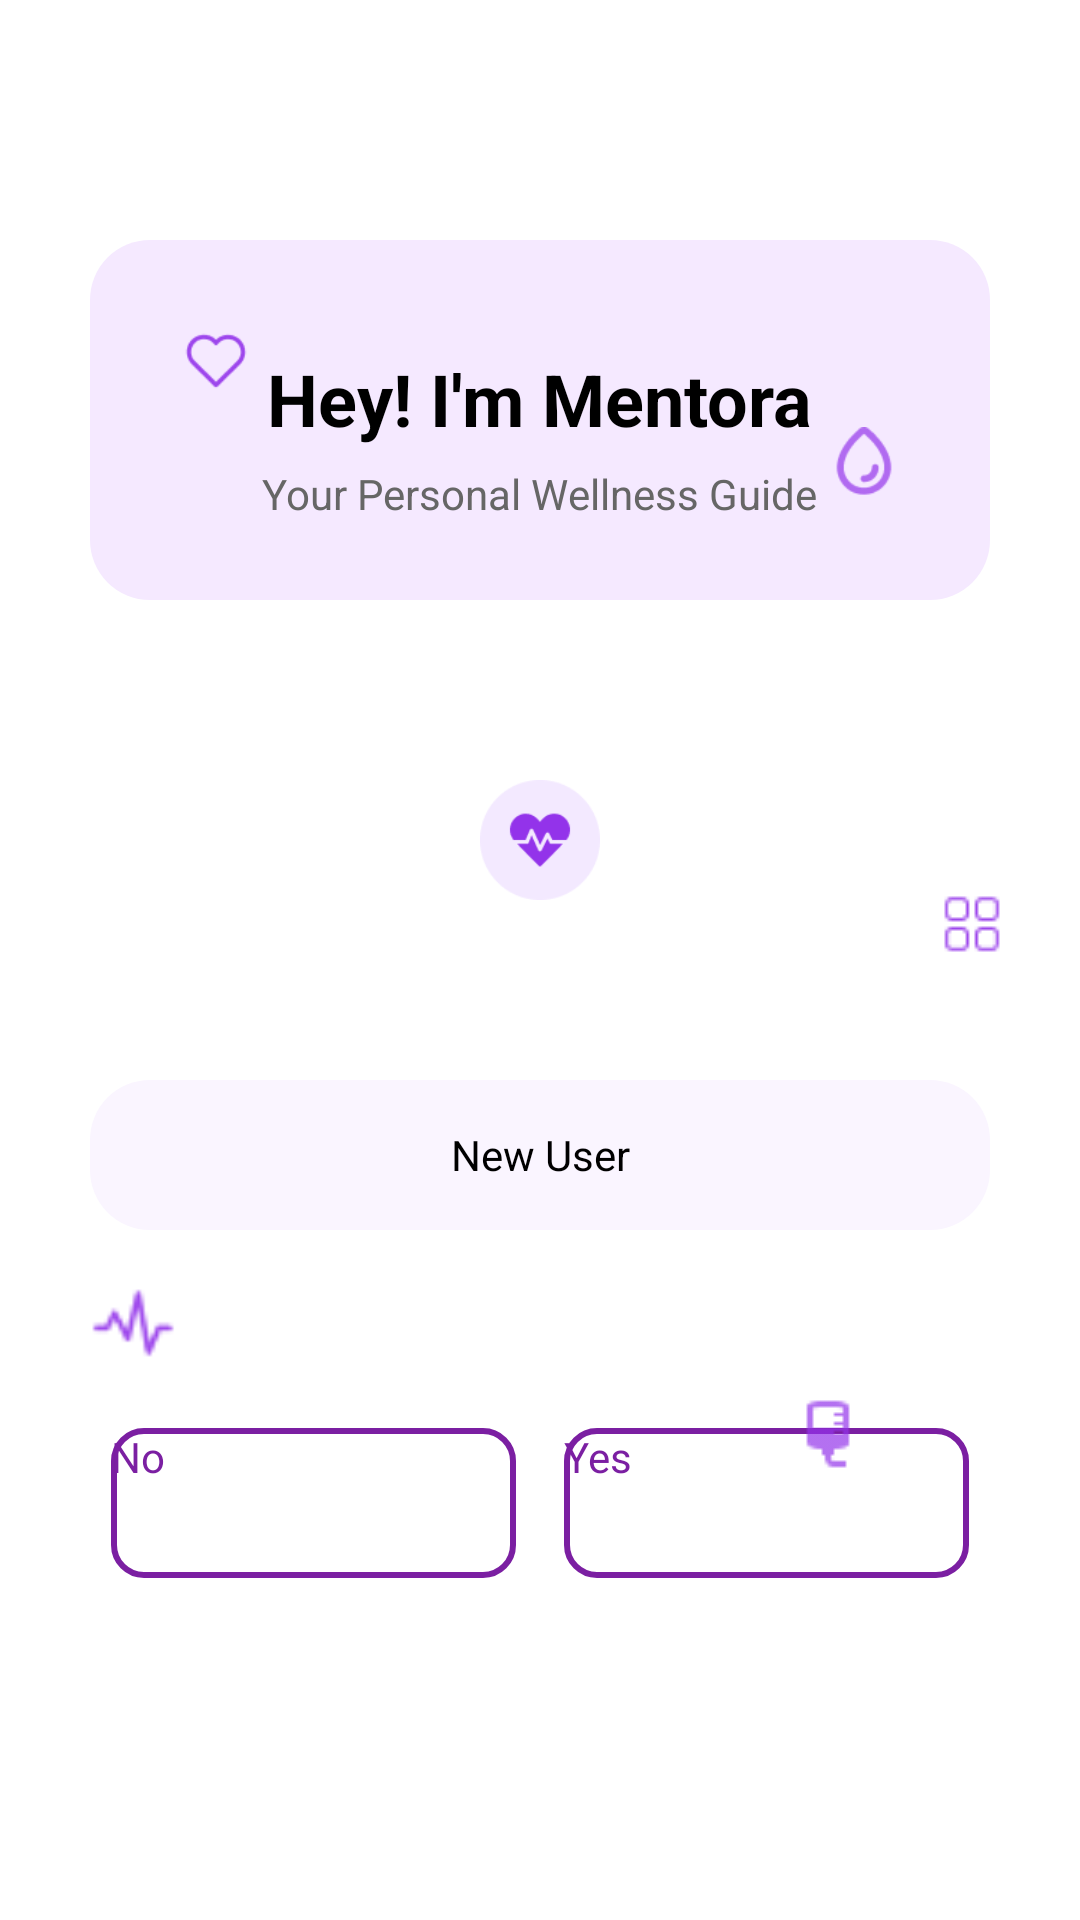

Icons on this 1080w x 1920h Android screen, each with its box as (x1, y1, x2, y2):
beat: (92, 1290, 174, 1356)
grid faint: (944, 896, 1000, 952)
heart: (186, 334, 246, 388)
water droplet: (836, 427, 892, 495)
